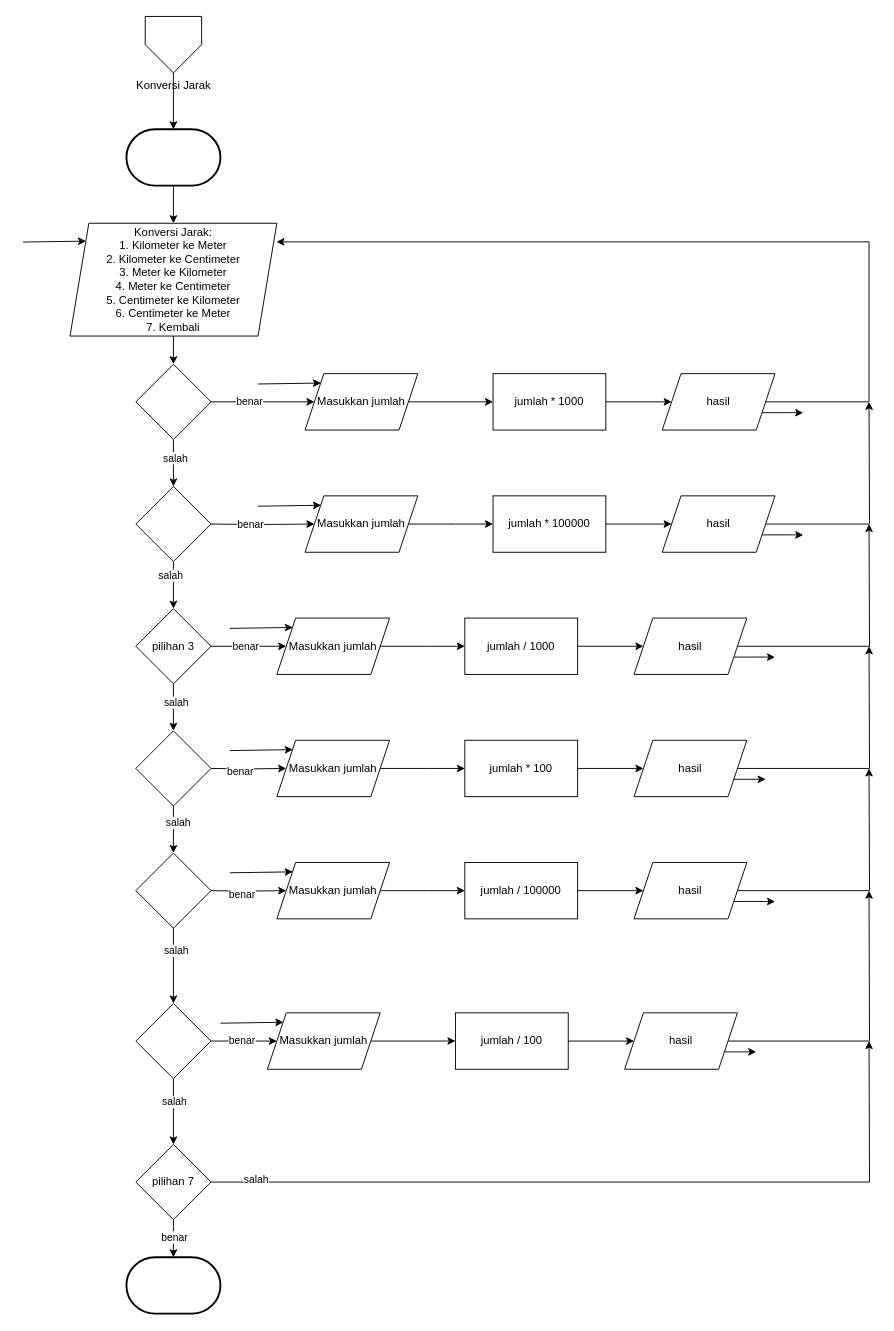
This 894x1331 diagram has some shape labels left out. Here are the shapes that lost their labels. From the top down, the centre of each, then its label:
At point 173,157: "mulai".
At point 173,401: "pilihan 1".
At point 173,524: "pilihan 2".
At point 173,768: "pilihan 4".
At point 173,890: "pilihan 5".
At point 173,1041: "pilihan 6".
At point 173,1285: "selesai".
